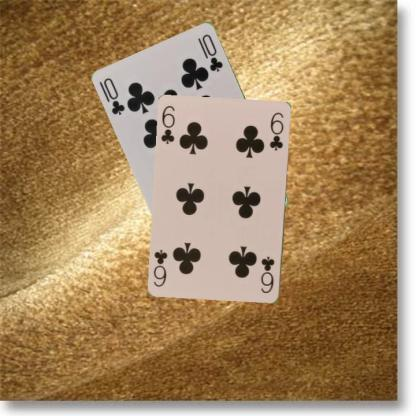10c: (101, 75, 127, 117)
6c: (258, 254, 276, 294), (159, 104, 176, 146)
